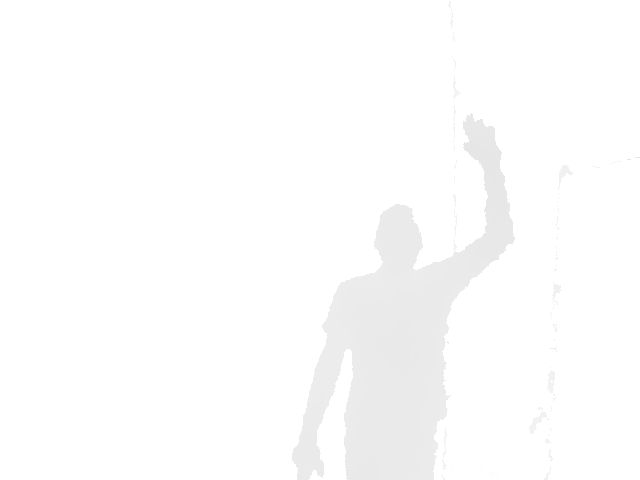hand: (461, 113, 503, 165)
head: (372, 204, 424, 271)
person: (290, 112, 516, 480)
